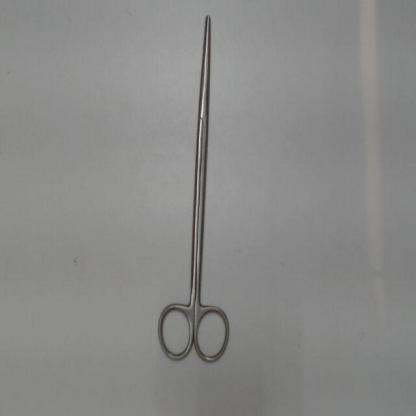9 Metzenbaum Scissors: (153, 10, 234, 370)
